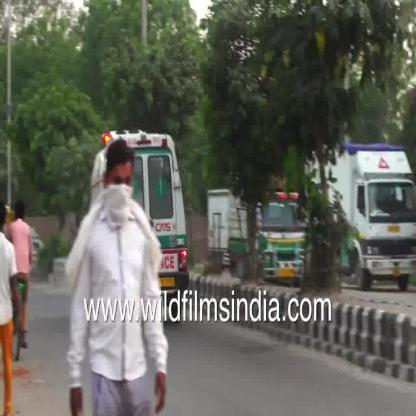priority: (88, 123, 187, 291)
